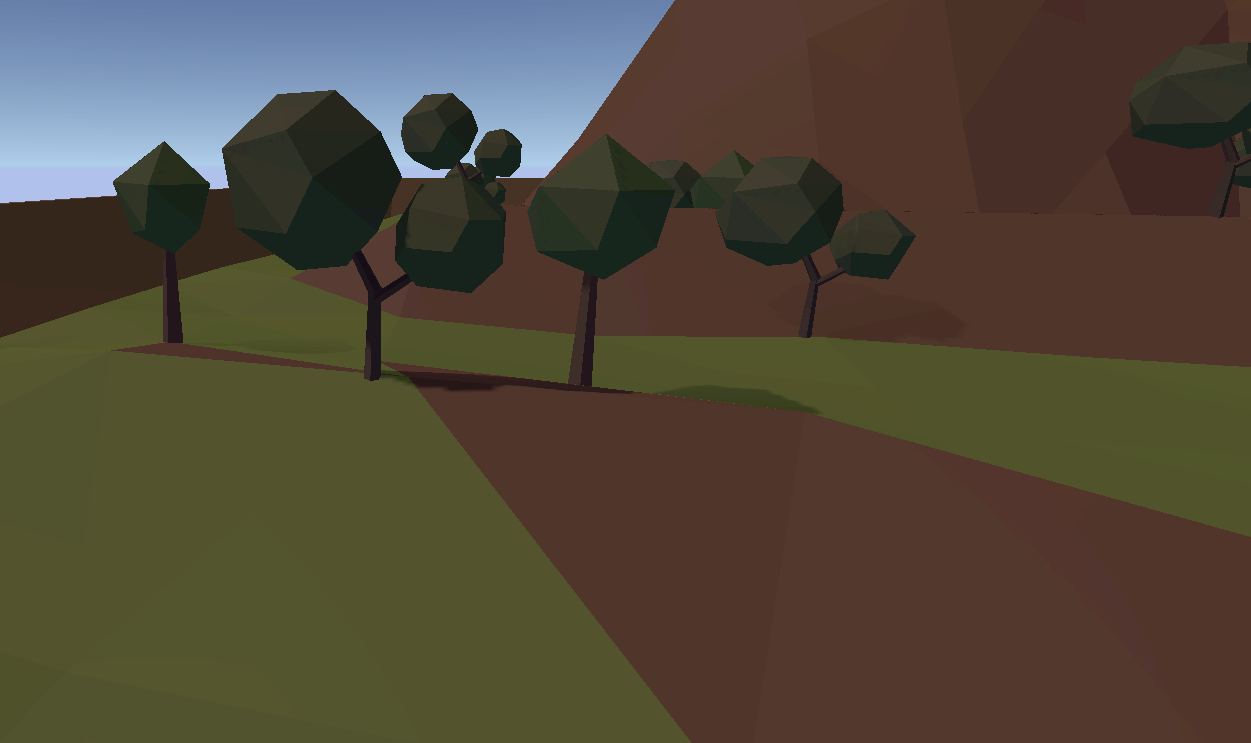tree: (221, 89, 504, 383), (525, 134, 676, 396), (716, 154, 924, 340), (112, 138, 218, 350), (1129, 39, 1251, 219), (407, 93, 534, 180)
